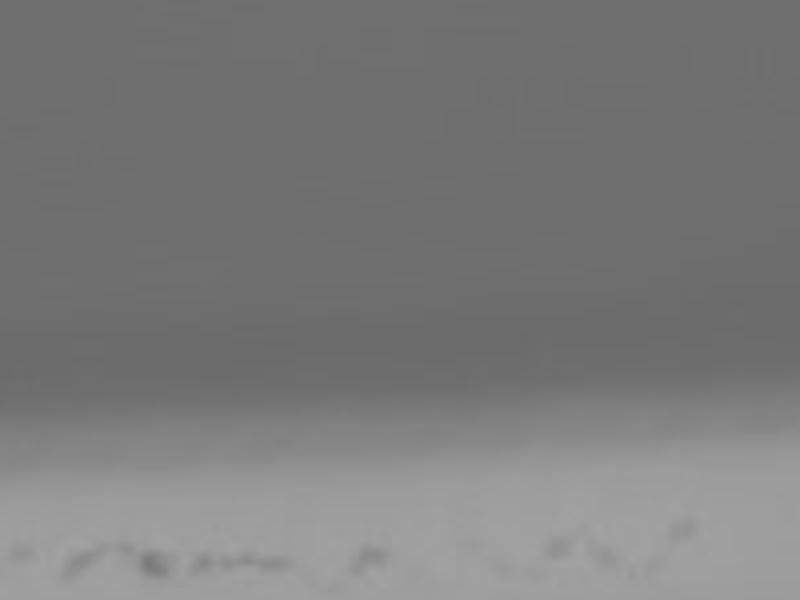defect: (351, 544, 386, 579), (665, 513, 699, 547), (140, 547, 173, 580), (585, 542, 618, 575), (65, 551, 94, 580), (547, 535, 572, 560), (11, 538, 35, 562), (522, 562, 546, 586), (488, 557, 511, 580), (190, 552, 212, 574), (264, 556, 284, 576), (642, 550, 660, 568), (115, 541, 132, 558), (218, 553, 234, 569), (94, 542, 108, 556), (237, 552, 251, 566), (625, 563, 639, 577)
